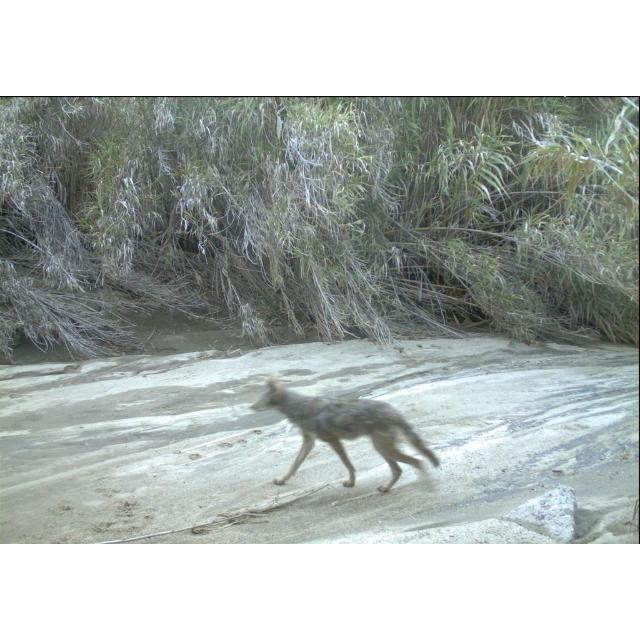animals: (250, 378, 444, 497)
